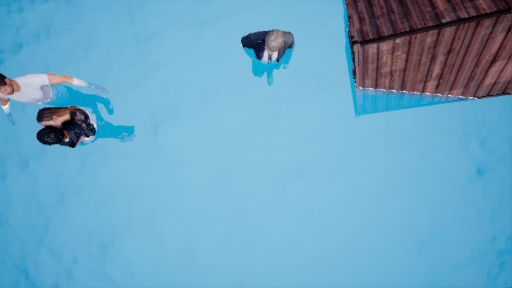person: (3, 68, 127, 158), (226, 30, 309, 89)
